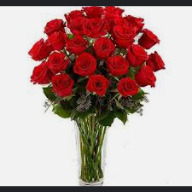RedRose: (101, 5, 127, 36), (123, 41, 147, 67), (113, 22, 136, 48), (64, 8, 87, 34), (51, 73, 75, 97), (117, 74, 138, 101), (27, 61, 48, 87), (87, 74, 109, 98), (135, 67, 156, 92), (107, 53, 129, 76), (27, 38, 49, 61), (46, 29, 68, 52), (74, 53, 96, 75), (140, 27, 162, 49), (93, 36, 116, 57), (45, 52, 67, 73), (68, 34, 90, 55), (86, 16, 109, 35), (148, 49, 166, 73), (122, 14, 149, 29), (42, 16, 66, 32), (79, 6, 105, 17)
